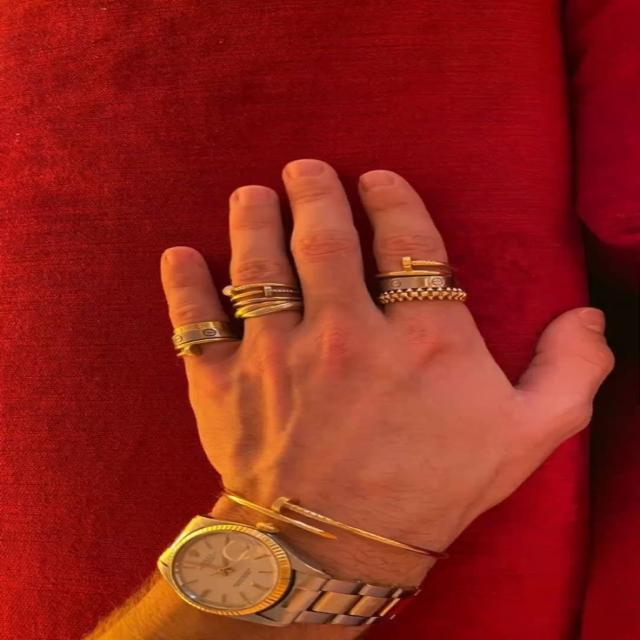Fingernail: (238, 188, 271, 208), (361, 172, 394, 192), (288, 162, 324, 180), (581, 310, 606, 335), (165, 249, 194, 269)
